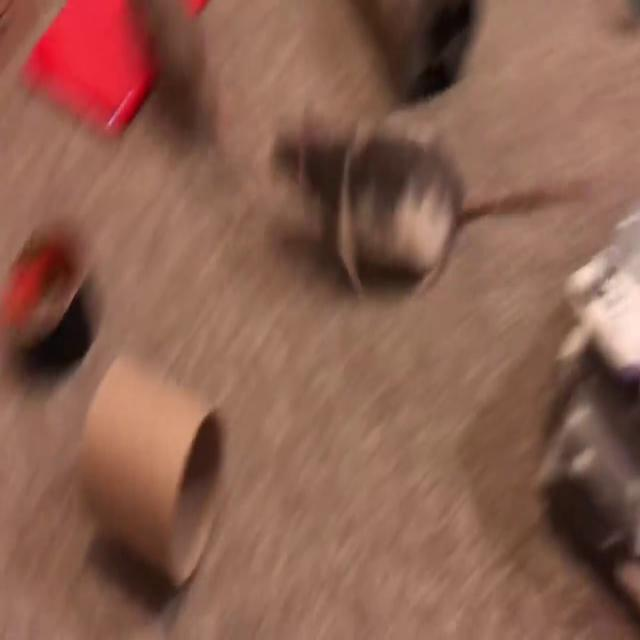rat: (269, 106, 465, 300)
